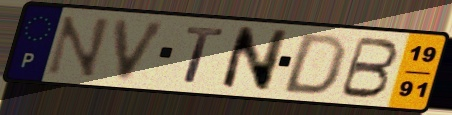B: (336, 35, 402, 101)
D: (278, 32, 351, 97)
N: (217, 24, 293, 94), (42, 14, 114, 80)
T: (180, 24, 228, 86)
V: (112, 17, 172, 83)
